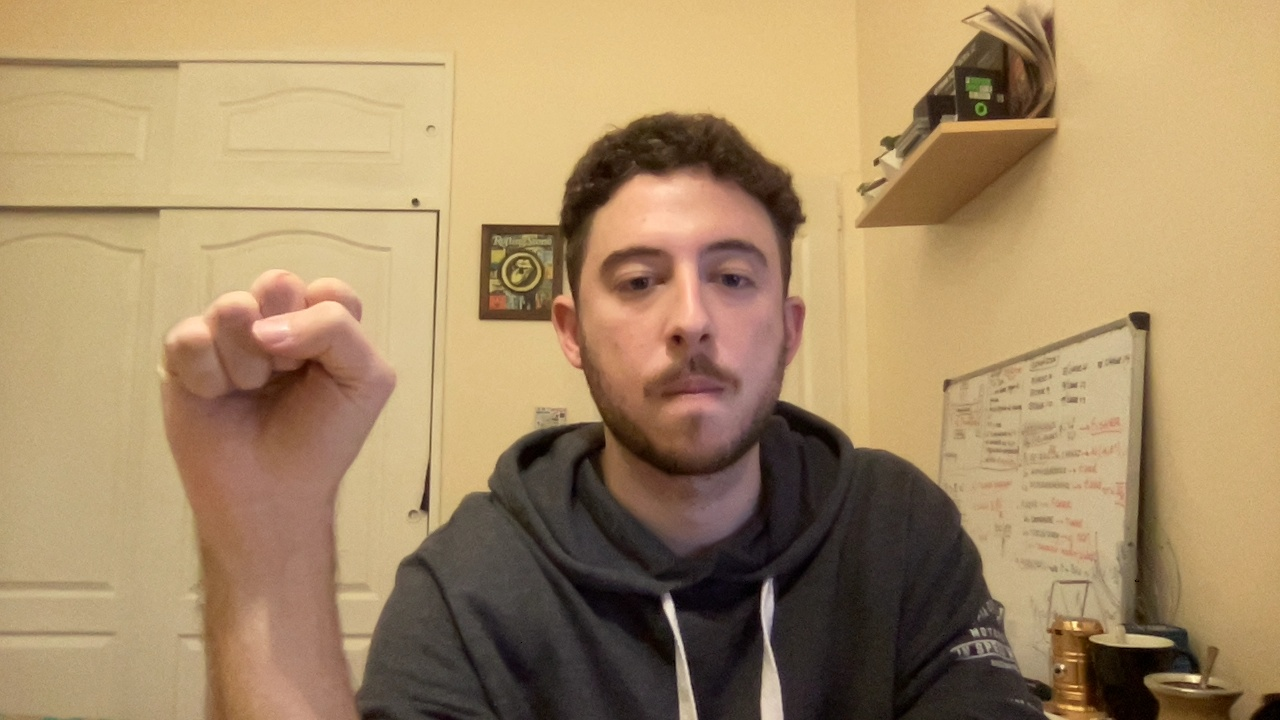cerrado: (116, 252, 424, 498)
